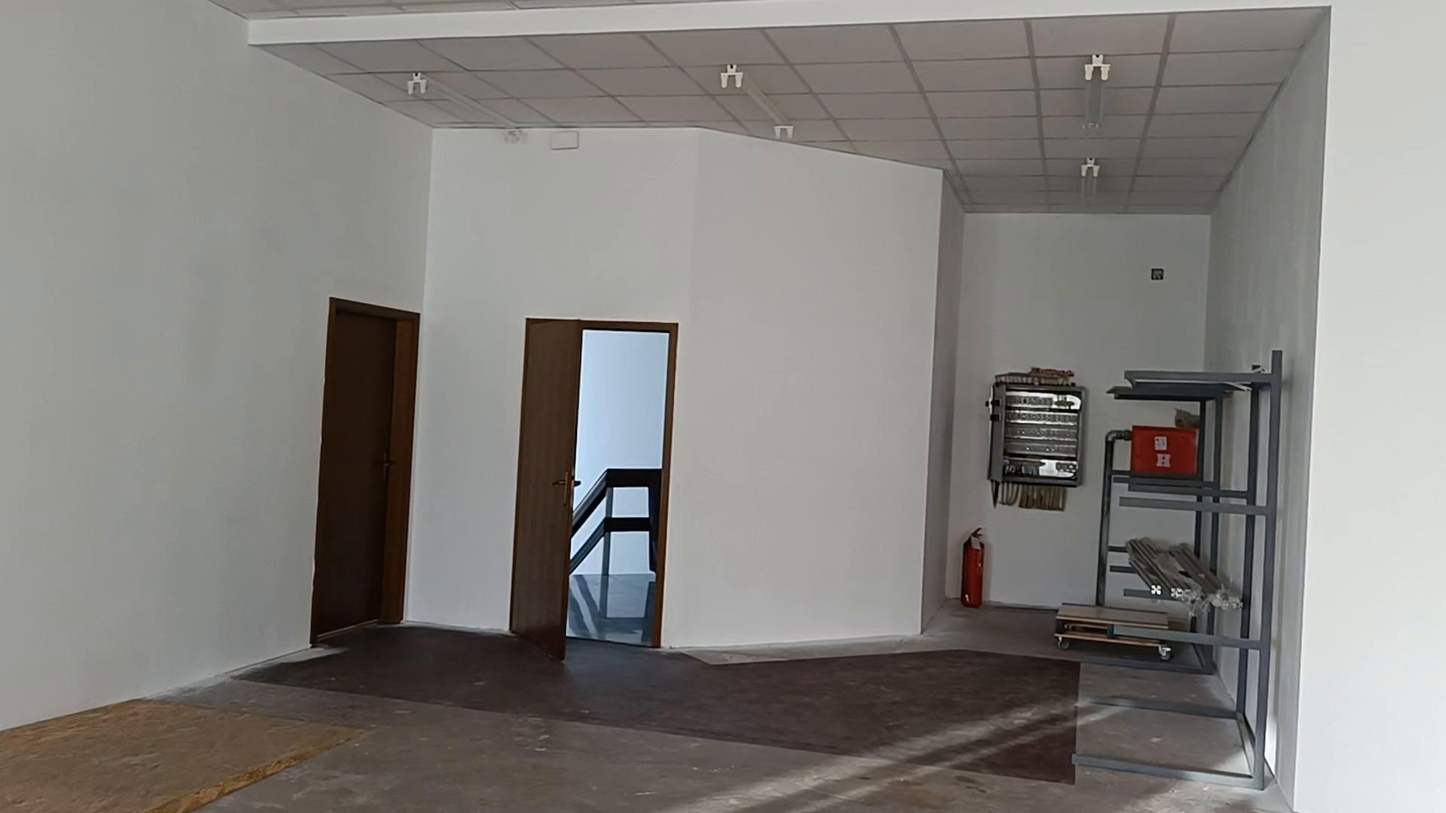ceiling: (264, 5, 1325, 213), (213, 0, 791, 44)
floor: (0, 611, 1288, 812)
wall: (3, 3, 1205, 726), (1294, 6, 1443, 812), (1203, 18, 1330, 799)
